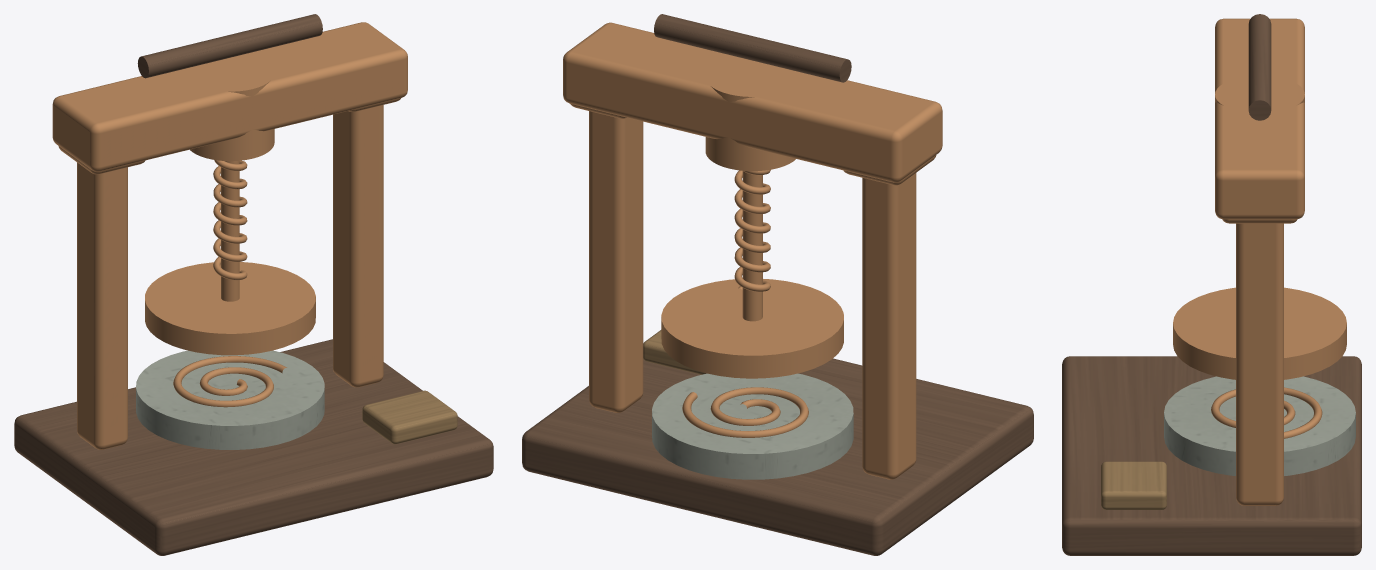
File: bellroot-fen-floodward-marches-flood-oath-seal-press-5e17409f__32913.glb
3 views of the same model, side by side, from view 1: azimuth 30°, elevation 25°; view 2: azimuth 150°, elevation 25°; view 3: azimuth 270°, elevation 25° (orthographic). The views are drawn at different scales.
Parts seen in each view (by area): view 1: flood-oath-seal-press, seal-screw-copper, seal-screw-gate-root; view 2: flood-oath-seal-press, seal-screw-copper, seal-screw-gate-root; view 3: flood-oath-seal-press, seal-screw-copper, seal-screw-gate-root.
Part boxes in pixels (x1,y1,x2,y2): flood-oath-seal-press: (14, 22, 493, 555); seal-screw-copper: (145, 69, 315, 355); seal-screw-gate-root: (137, 14, 322, 78); flood-oath-seal-press: (522, 22, 1033, 555); seal-screw-copper: (661, 72, 843, 378); seal-screw-gate-root: (654, 14, 851, 82); flood-oath-seal-press: (1062, 18, 1361, 555); seal-screw-copper: (1173, 287, 1346, 379); seal-screw-gate-root: (1248, 14, 1271, 120).
Bounding box in the file's own units: 0.66 × 0.769 × 0.5.
4 materials, 3 textured.
